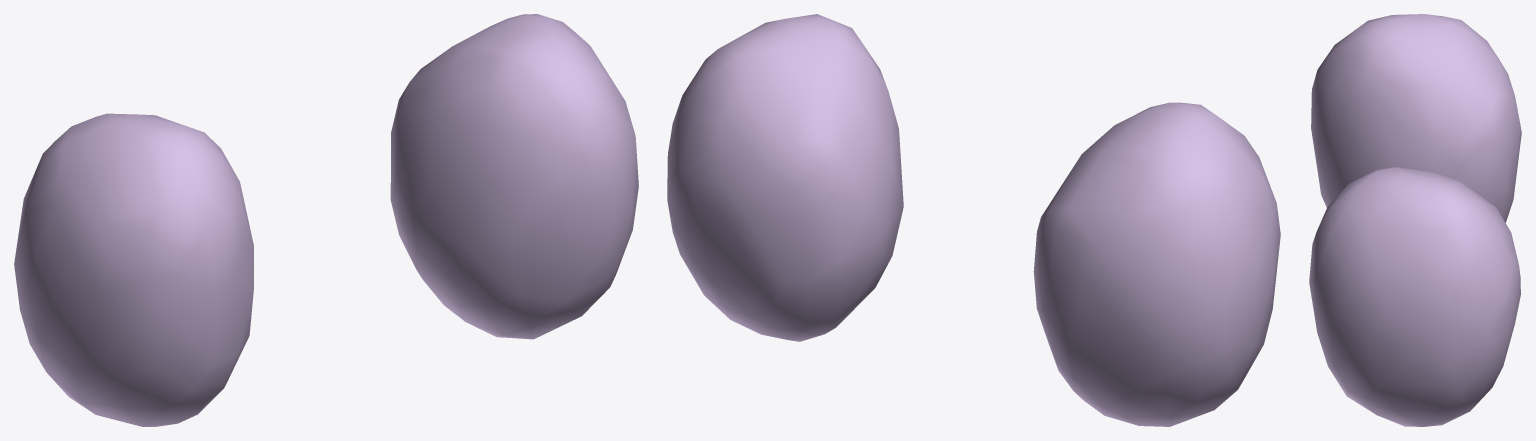
File: reproductive.glb
3 views of the same model, side by side, from view 1: azimuth 30°, elevation 25°; view 2: azimuth 150°, elevation 25°; view 3: azimuth 270°, elevation 25° (orthographic). The views are drawn at different scales.
Parts seen in each view (by area): view 1: FMA7212, FMA7211; view 2: FMA7211, FMA7212; view 3: FMA7212, FMA7211.
Boxes of the visible parts, box(x1,y1,x2,y2) form: FMA7212: box(390, 14, 638, 339); FMA7211: box(14, 113, 253, 426); FMA7211: box(1033, 102, 1280, 426); FMA7212: box(667, 14, 903, 341); FMA7212: box(1309, 167, 1520, 426); FMA7211: box(1311, 14, 1521, 222).
Size of the model in its own units: 0.0589 by 0.0294 by 0.0227.
